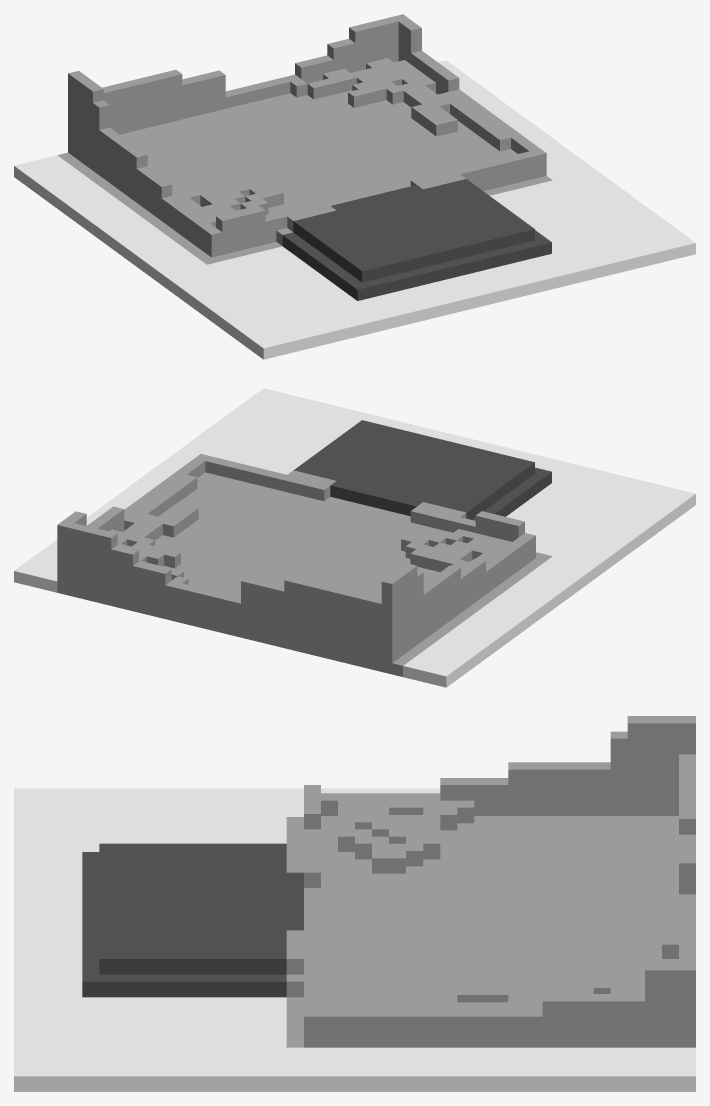
File: building_base.obj
The picture shows the model from 3 angles, top to bottom: view 1: azimuth 30°, elevation 25°; view 2: azimuth 150°, elevation 25°; view 3: azimuth 270°, elevation 25°; orthographic projection. The views are drawn at different scales.
Parts seen in each view (by area): view 1: building_base; view 2: building_base; view 3: building_base.
Boxes of the visible parts, x1,y1,x2,y2 form: building_base: [14, 14, 695, 359]; building_base: [14, 388, 695, 687]; building_base: [14, 716, 695, 1091].
Bounding box in the file's own units: 4 × 0.8 × 4.
1 material, 1 textured.
